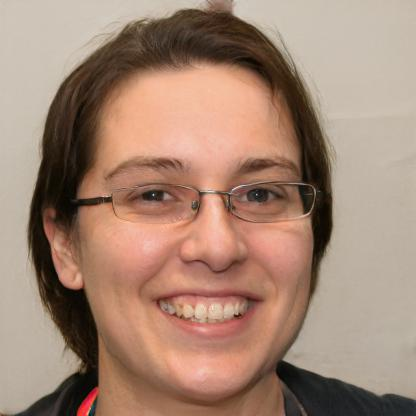glasses: (97, 176, 319, 234)
